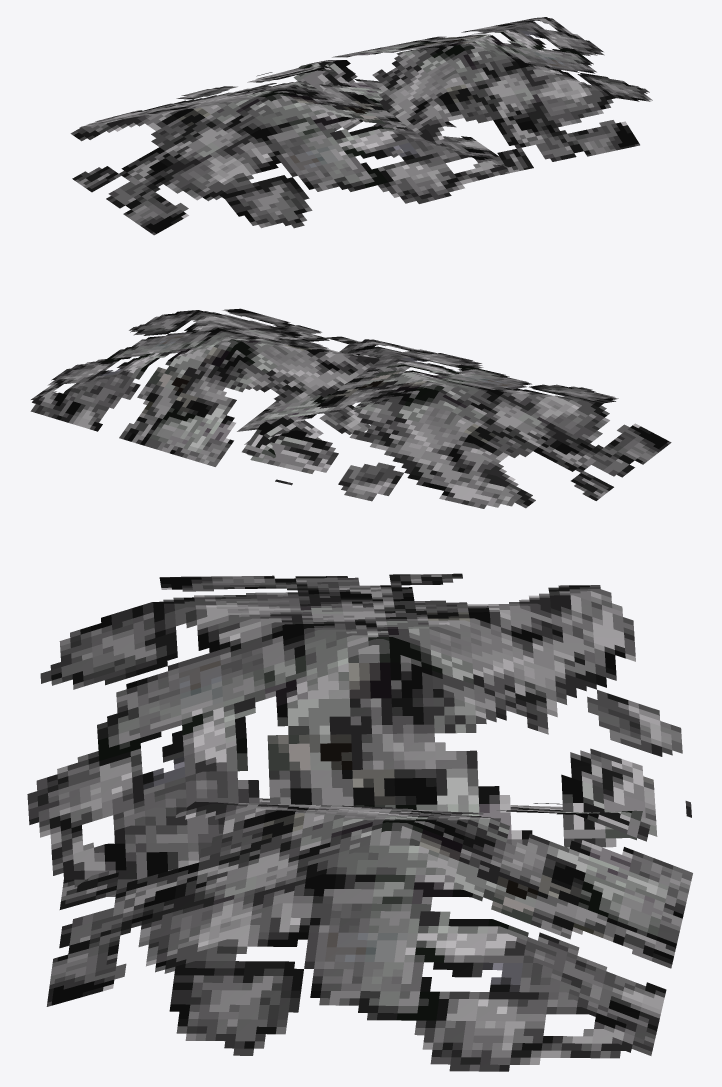
Rendered from Environment - Prop - Stone Wall 01 - PMWalCmnt1_R.glb.
3 renders of one model, top to bottom at view 1: azimuth 30°, elevation 25°; view 2: azimuth 150°, elevation 25°; view 3: azimuth 270°, elevation 25°, orthographic. The views are drawn at different scales.
Visible parts, largest first — view 1: PMWALCMNT1_R; view 2: PMWALCMNT1_R; view 3: PMWALCMNT1_R.
Part boxes in pixels (box(x1,y1,x2,y2)): PMWALCMNT1_R: box(70, 17, 652, 235); PMWALCMNT1_R: box(30, 308, 671, 508); PMWALCMNT1_R: box(27, 573, 692, 1071).
Size of the model in its own units: 33.36 by 3.28 by 19.52.
Materials: 1 (1 with a texture image).
